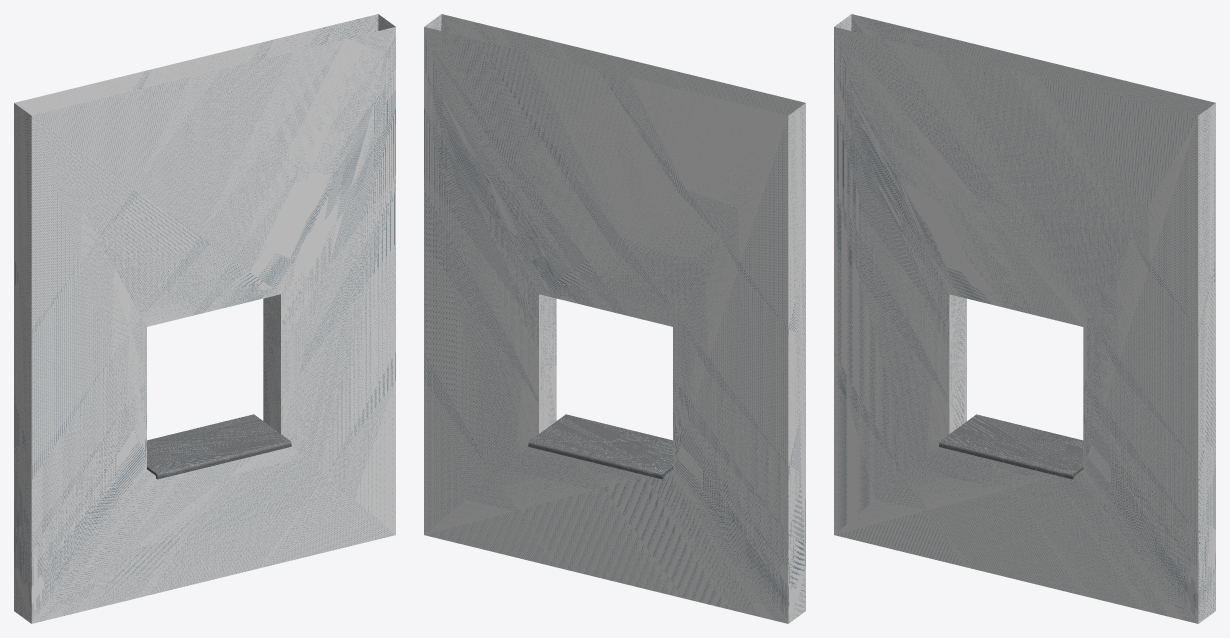
Rendered from BlockWall_Sluise_ds_[300x400x025]_112x110x[100].dae.
The picture shows the model from 3 angles, left to right: view 1: azimuth 30°, elevation 25°; view 2: azimuth 150°, elevation 25°; view 3: azimuth 330°, elevation 25°; orthographic projection.
Parts seen in each view (by area): view 1: group_0 (×3); view 2: group_0 (×3); view 3: group_0 (×3).
Boxes of the visible parts, bbox=[...] form: group_0 (×3): bbox=[14, 14, 395, 623]; group_0 (×3): bbox=[424, 14, 805, 623]; group_0 (×3): bbox=[834, 14, 1215, 623].
Bounding box in the file's own units: 118 × 21.65 × 157.
